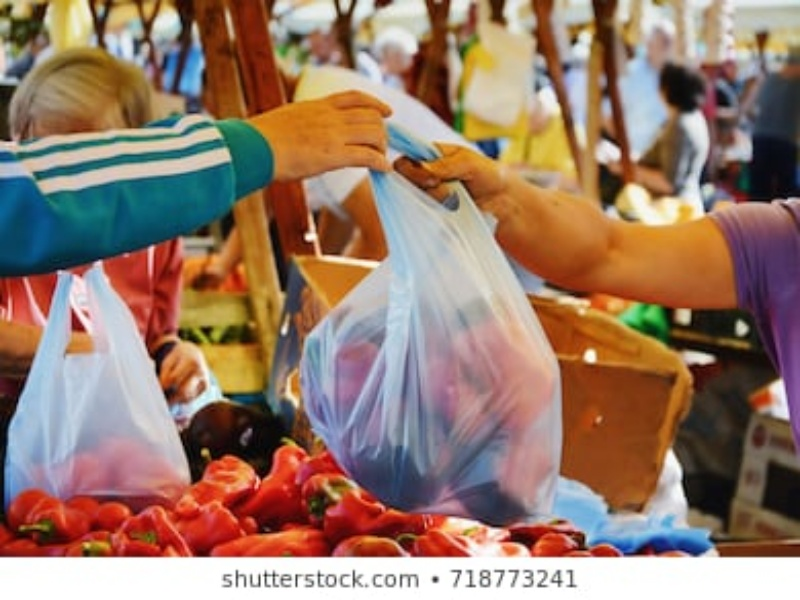plastic-bag: (303, 120, 561, 522), (5, 268, 195, 508)
